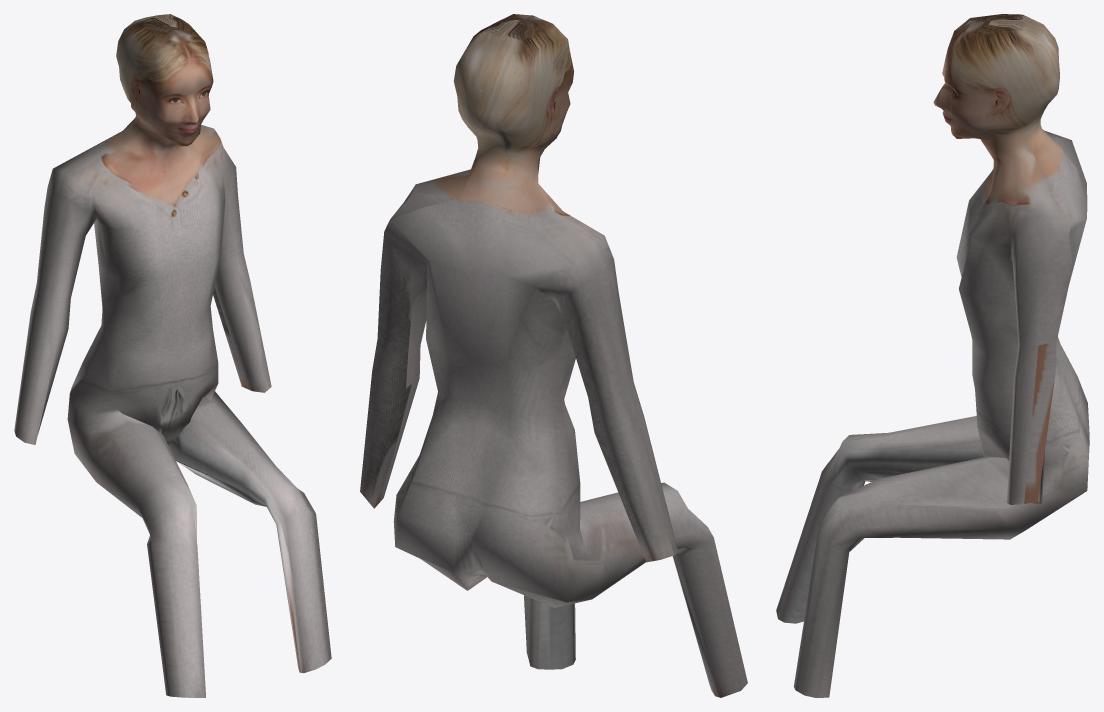
File: NicoleRubia_baked01.obj
The picture shows the model from 3 angles, left to right: view 1: azimuth 30°, elevation 25°; view 2: azimuth 150°, elevation 25°; view 3: azimuth 270°, elevation 25°; orthographic projection. The views are drawn at different scales.
Parts seen in each view (by area): view 1: Nicole01Lo.001_Cube.000; view 2: Nicole01Lo.001_Cube.000; view 3: Nicole01Lo.001_Cube.000.
Boxes of the visible parts, <box> form: Nicole01Lo.001_Cube.000: <box>14,14,331,697</box>; Nicole01Lo.001_Cube.000: <box>360,14,747,697</box>; Nicole01Lo.001_Cube.000: <box>776,14,1089,697</box>.
Size of the model in its own units: 15.62 by 35.25 by 15.55.
